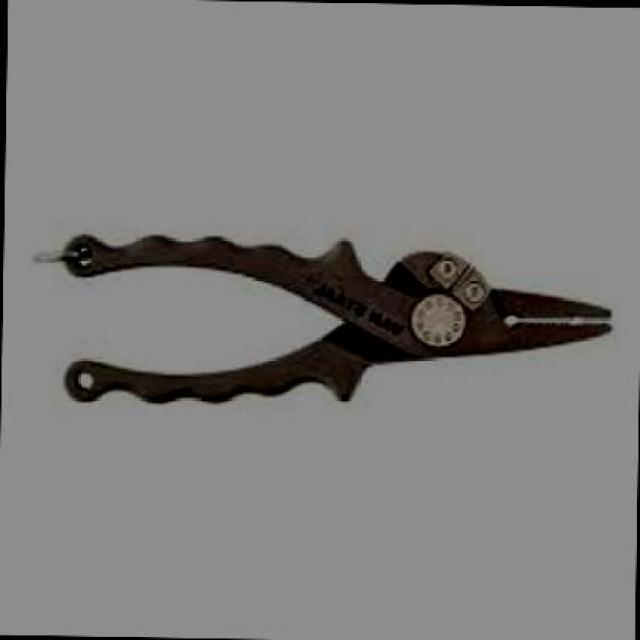pliers: (9, 202, 614, 461)
